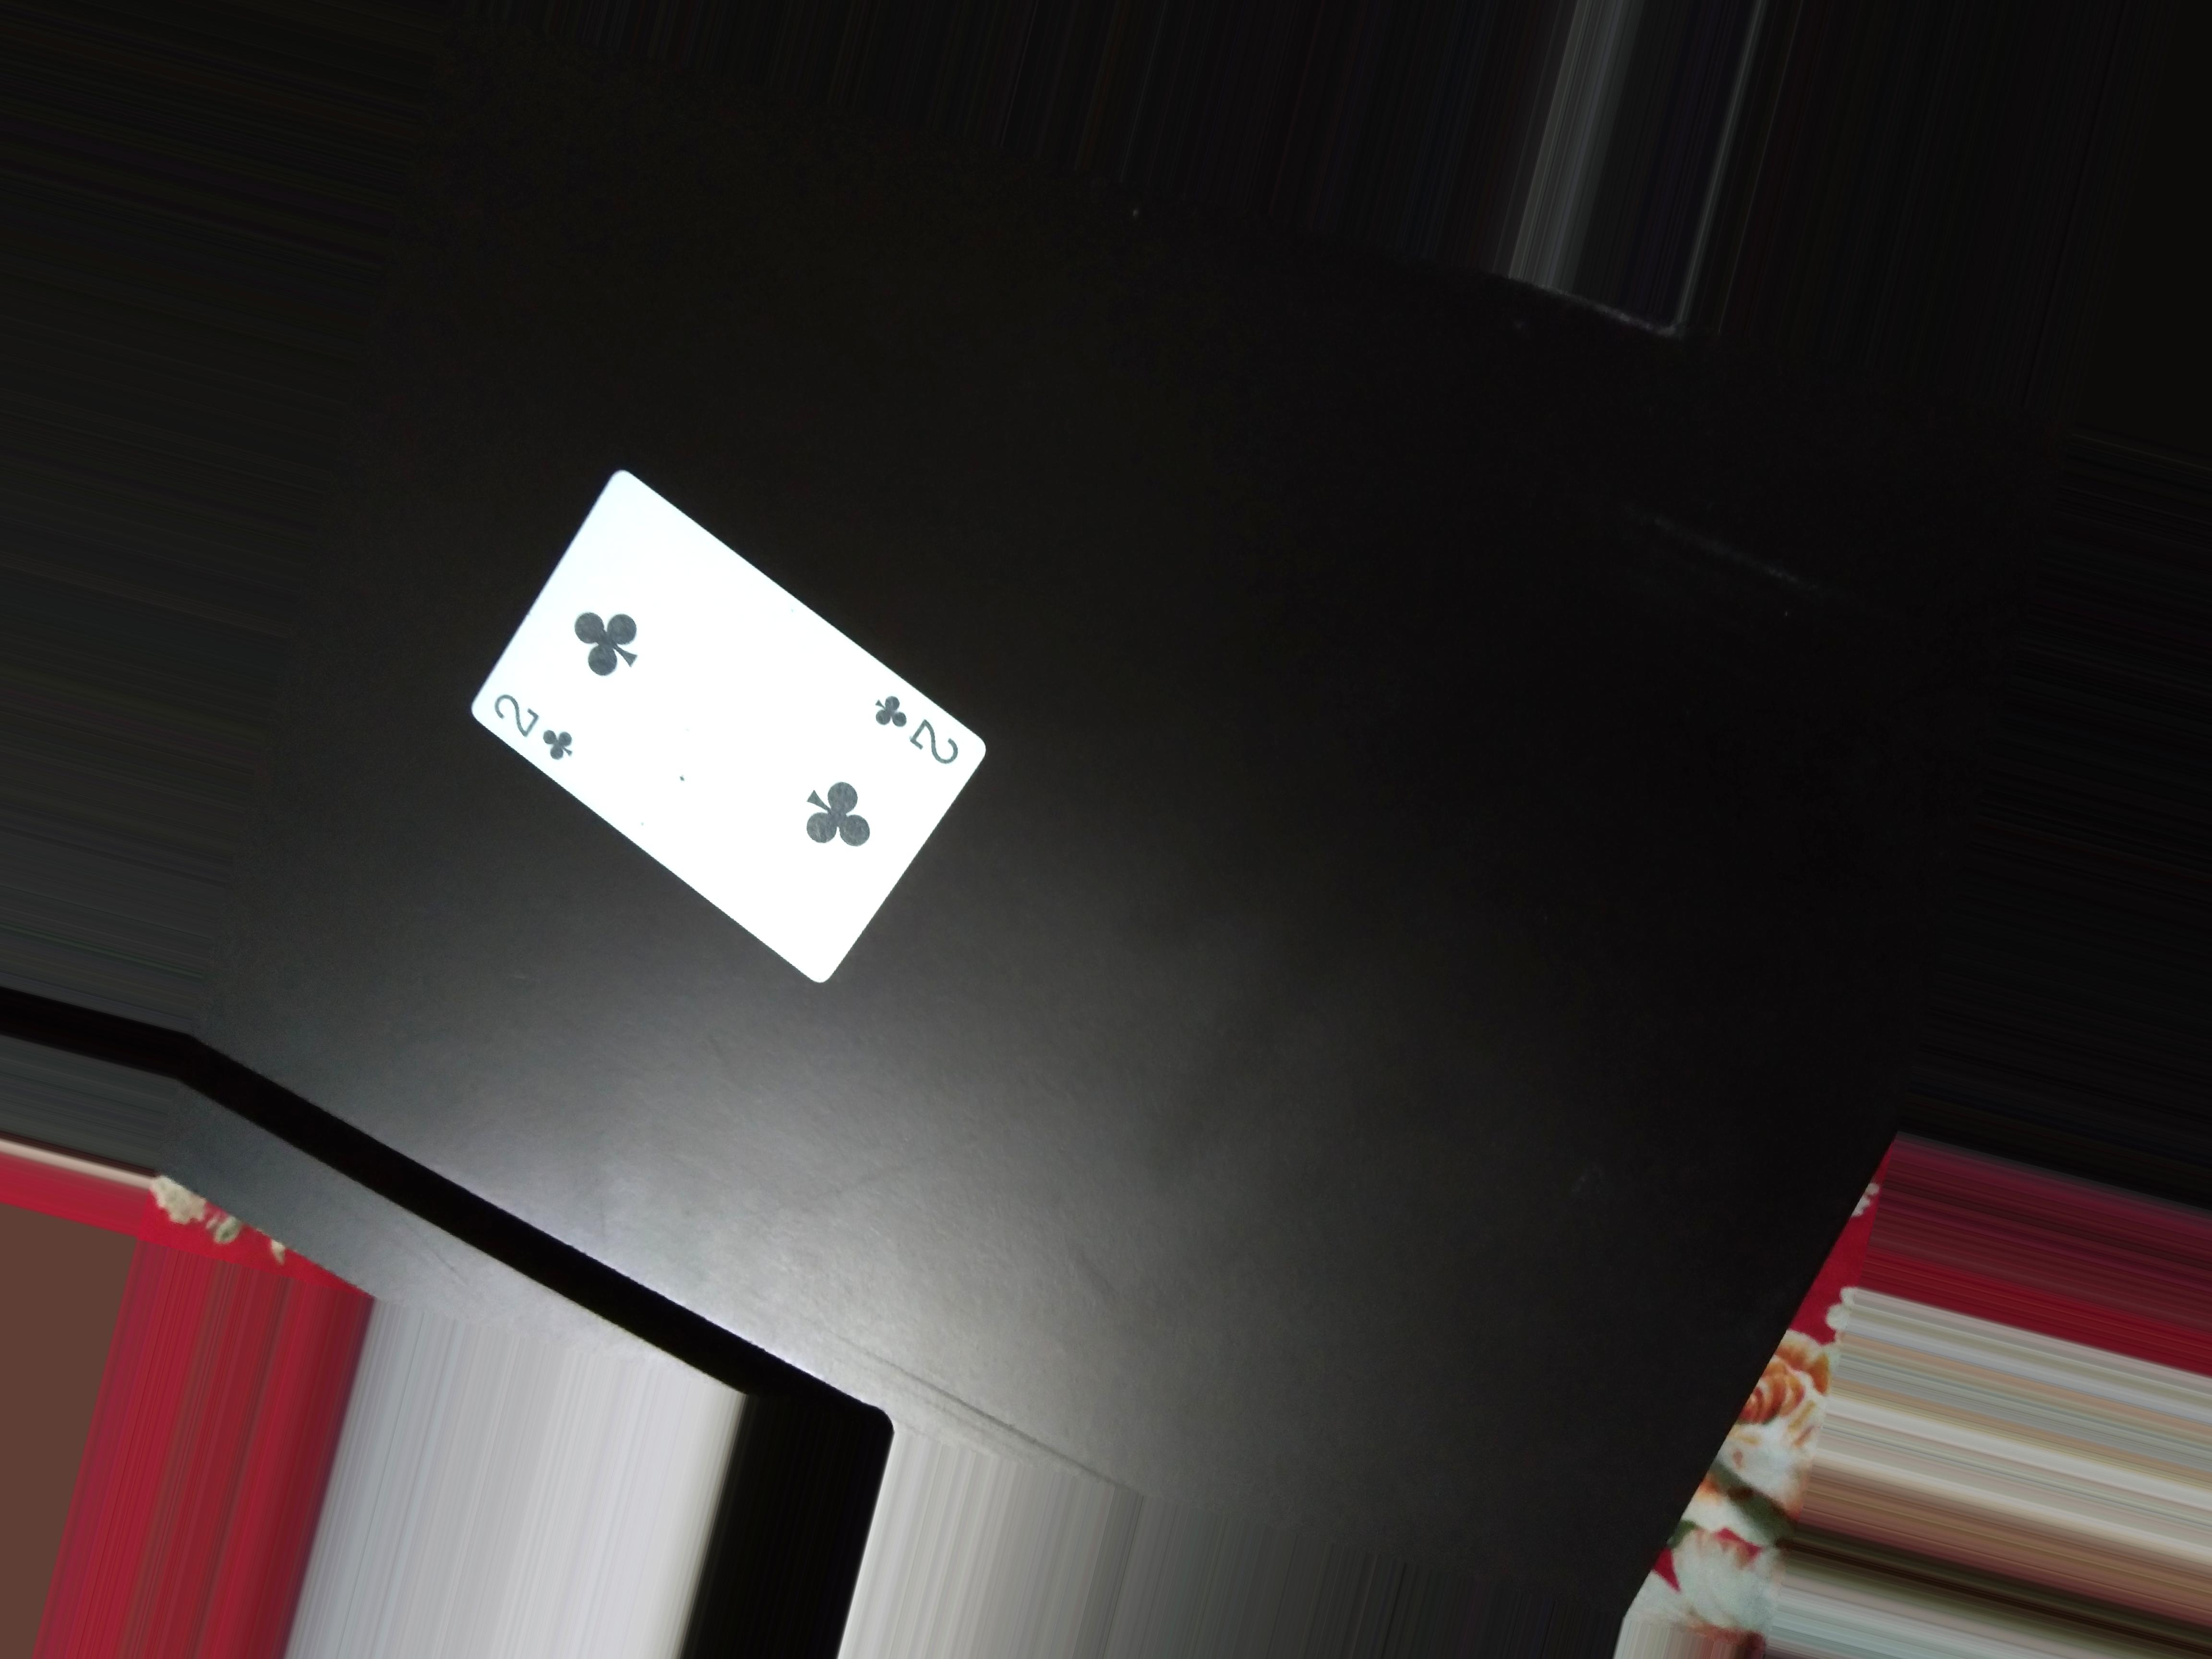2C: (486, 688, 592, 765)
